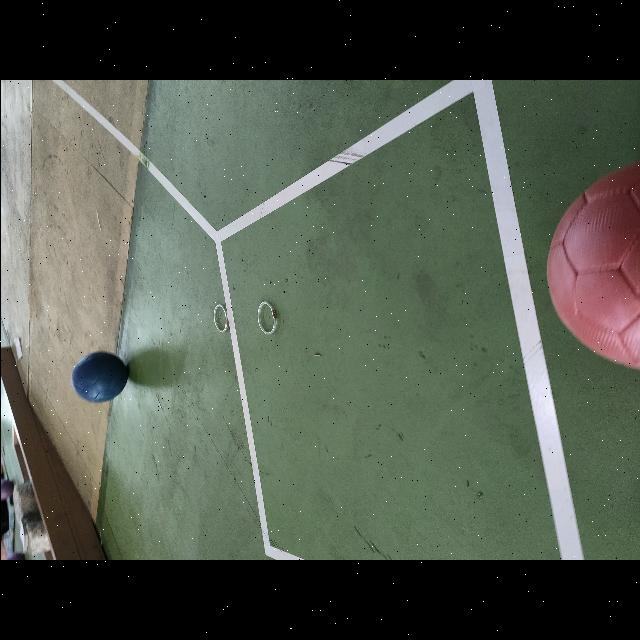B: (70, 352, 126, 402)
R: (546, 157, 640, 371)
